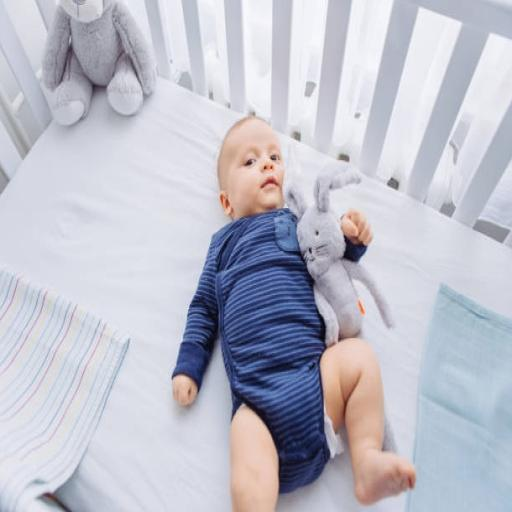baby: (173, 118, 415, 510)
crib: (0, 0, 511, 510)
